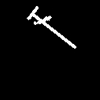double_crochet: (27, 6, 75, 47)
